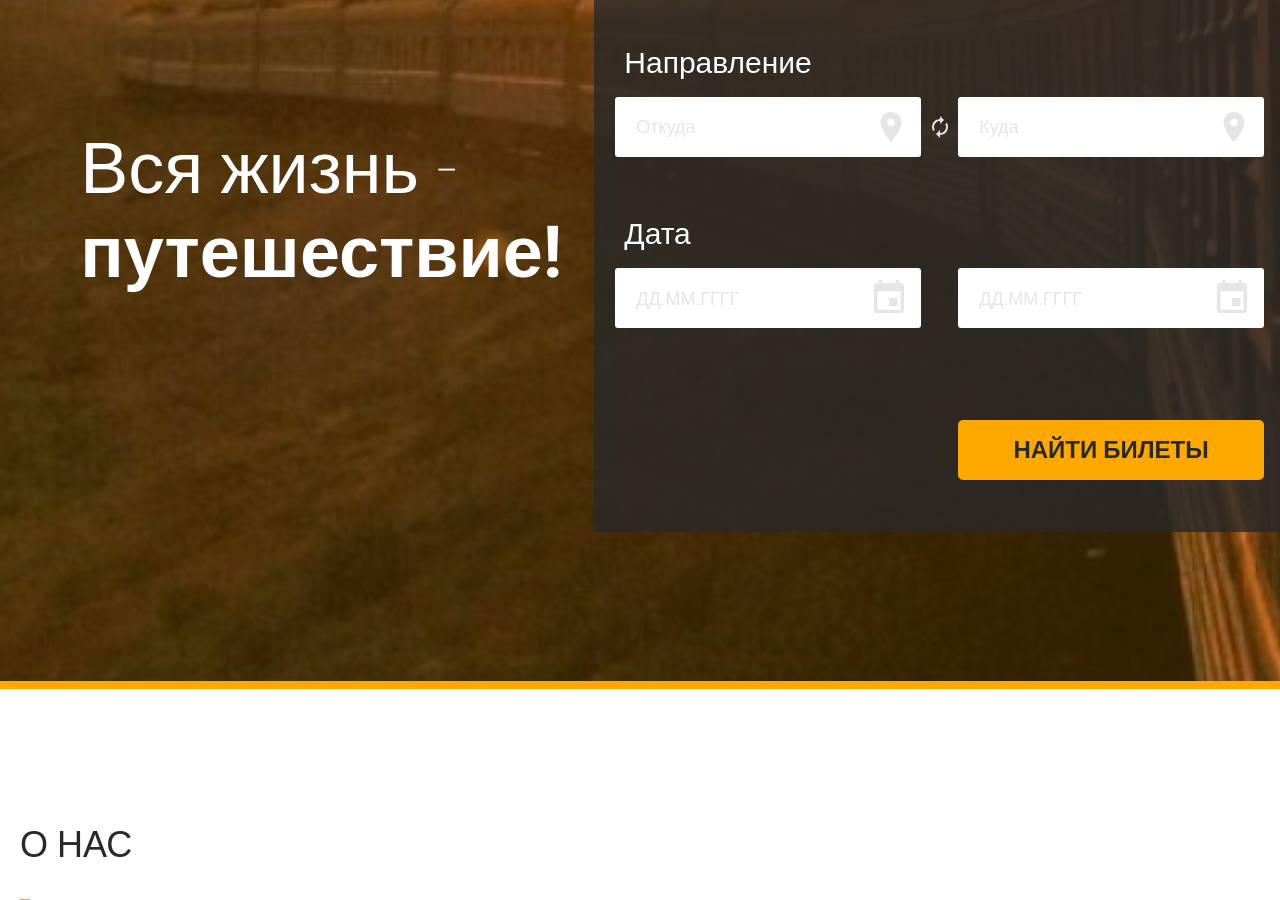
Test: поиск билетов › не уходит с пустой формой и показывает ошибки
(page scrolled)
Click the button "Найти билеты".
click(1111, 450)  # box 958,420 -> 1264,480
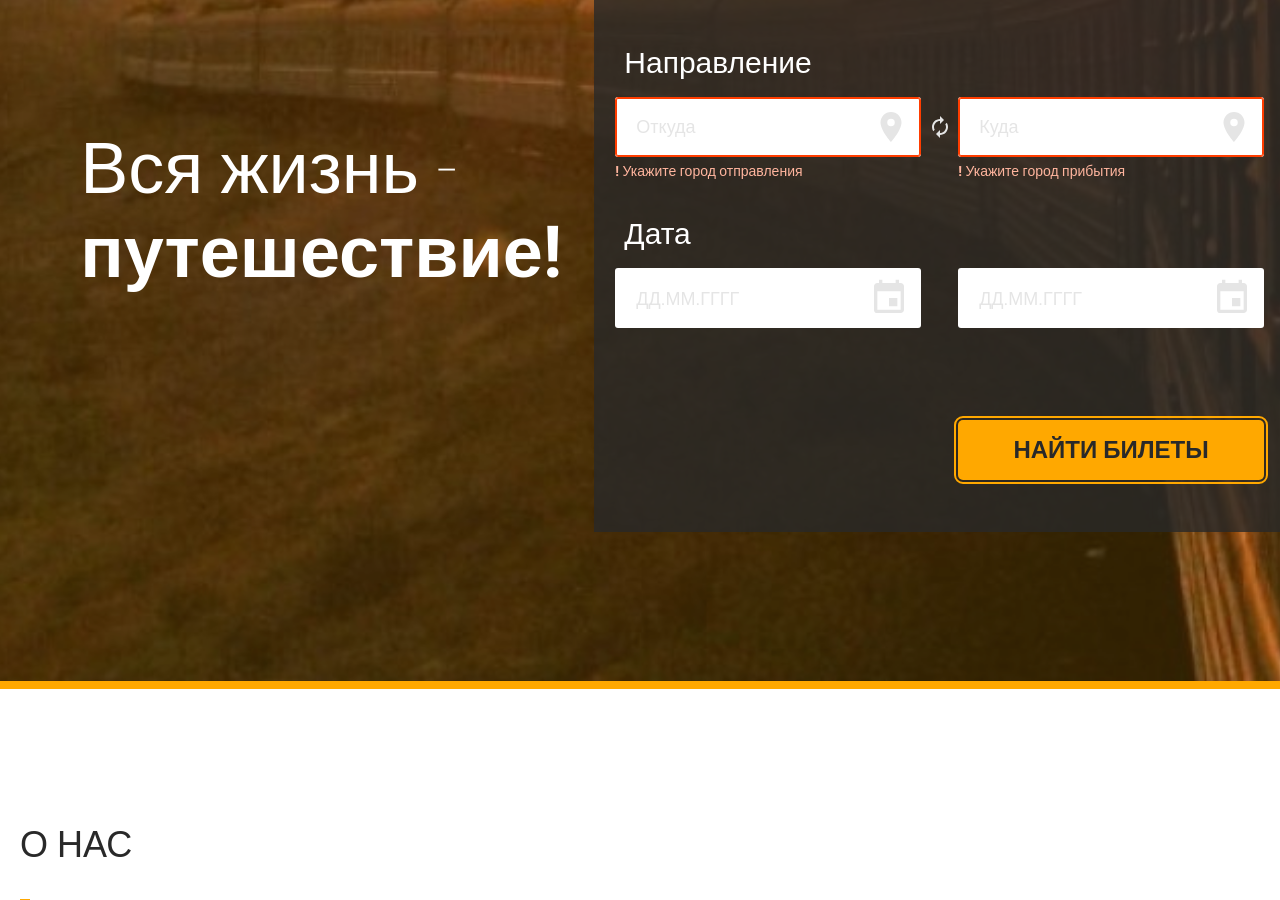
Now the text "Укажите город отправления" is shown, box 615,163 -> 802,179
